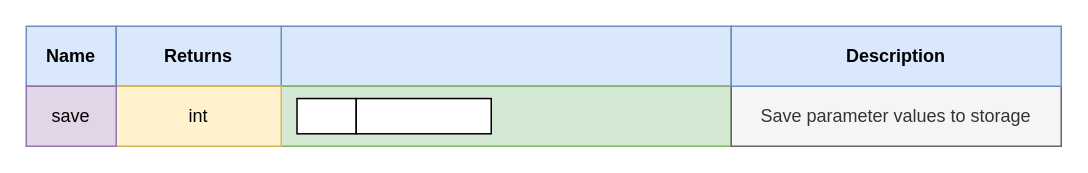
Some shapes in this 1088 by 173 pixel diagram are drawn without their labels. The centre of each missing label's shape, as x and y in pixels:
"Parameters" goes at pixel 505 55.
"path" goes at pixel 326 115.
"Registry Path" goes at pixel 423 115.
